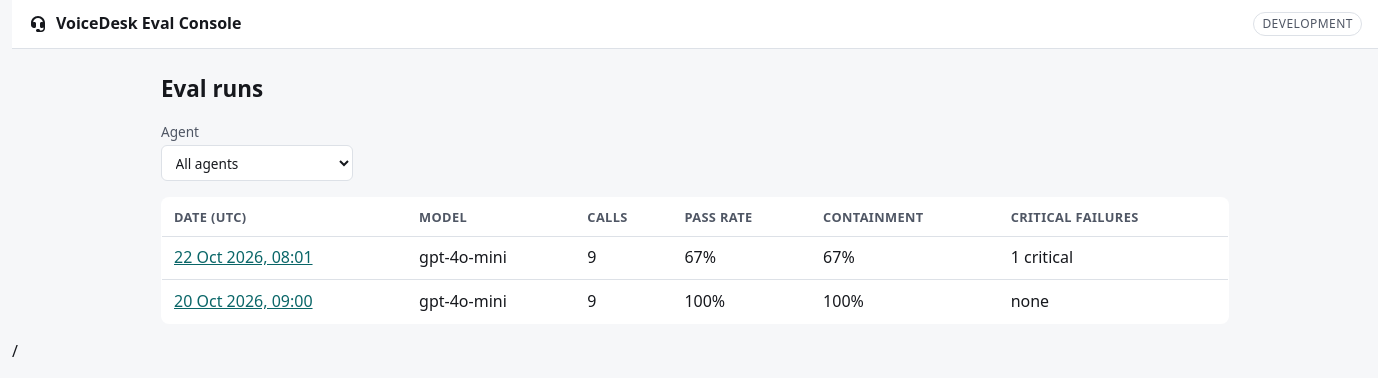
agent filter on the runs list › writes the chosen agent to the URL when changed
Check: the table named "eval runs" is shown, box left=161, top=197, right=1229, bottom=324
Select "Storage receptionist" in the dropdown labelled "Agent" at (257,163), box left=161, top=145, right=353, bottom=181
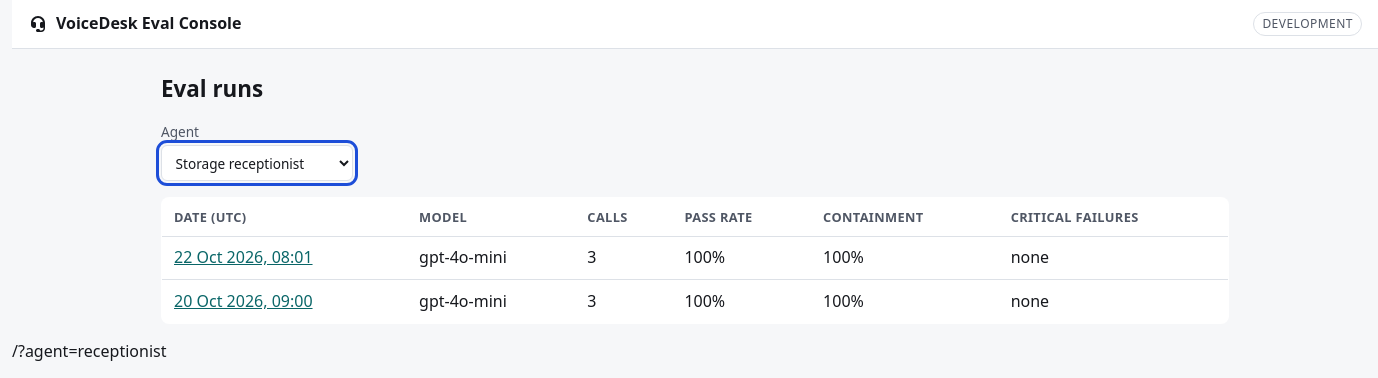
Check: the number of cells "100%" is 2, box left=672, top=236, right=811, bottom=280; left=811, top=236, right=999, bottom=280
Check: the text with test id "location" reads "/?agent=receptionist", box left=12, top=340, right=166, bottom=362
